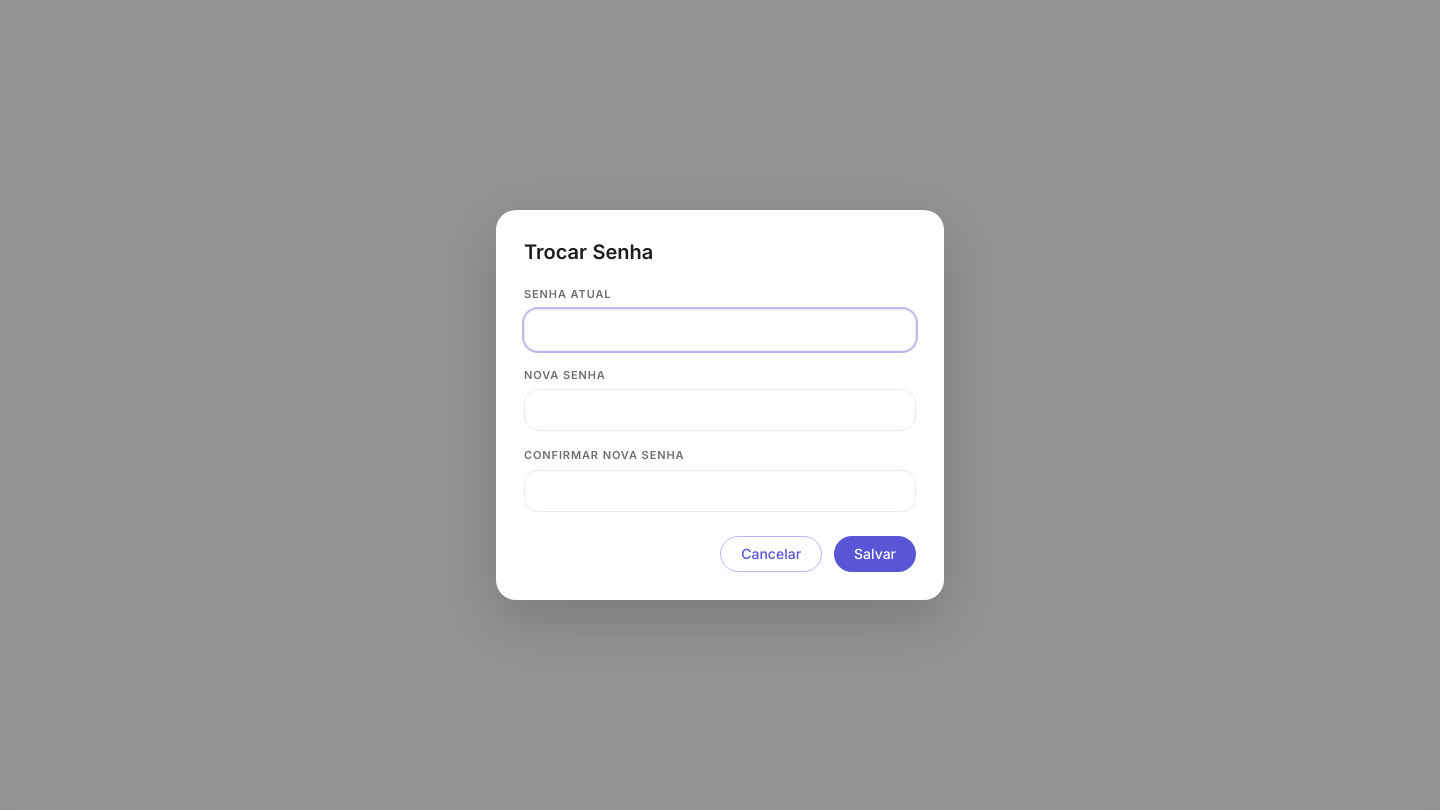
Test case: ChangePasswordModal › shows validation error when current password is blank on submit
Click the button "Salvar" at (875, 554), box [834,536,916,572]
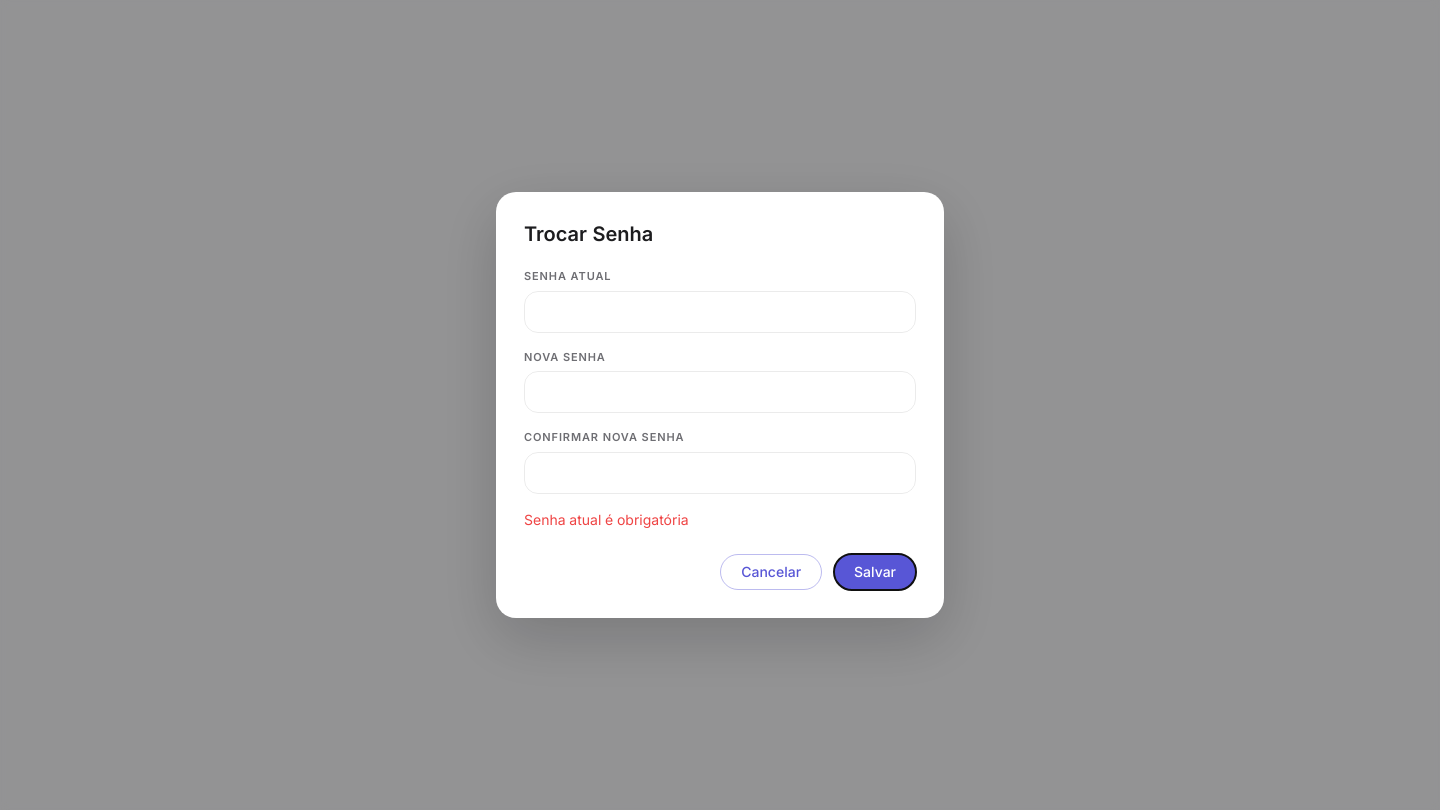
Now the text "Senha atual é obrigatória" is shown, box [524,511,689,528]
